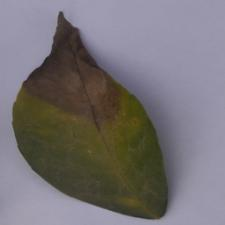Black: (11, 9, 135, 134)
